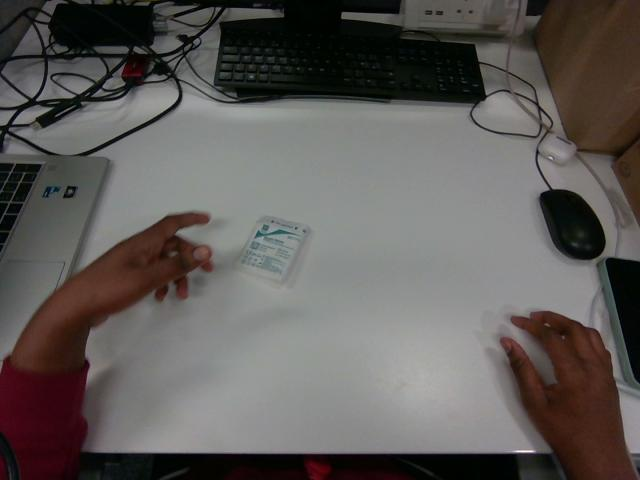gauze: (234, 216, 309, 285)
